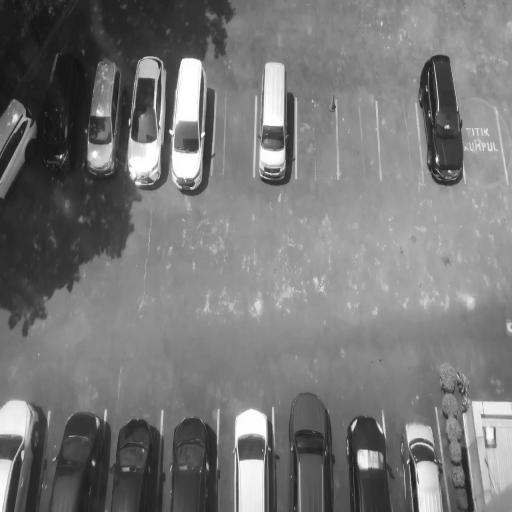Car: (47, 406, 106, 512), (289, 382, 336, 512), (420, 55, 465, 190), (171, 51, 212, 198), (1, 397, 51, 512), (128, 47, 167, 189), (168, 407, 220, 512), (111, 407, 162, 512), (39, 50, 79, 178), (256, 56, 295, 185), (348, 404, 394, 512), (85, 54, 120, 183), (401, 421, 449, 512), (232, 409, 274, 512)
Space Available: (212, 78, 255, 184), (463, 80, 505, 186), (337, 93, 380, 186), (378, 90, 421, 183), (299, 87, 336, 180)
